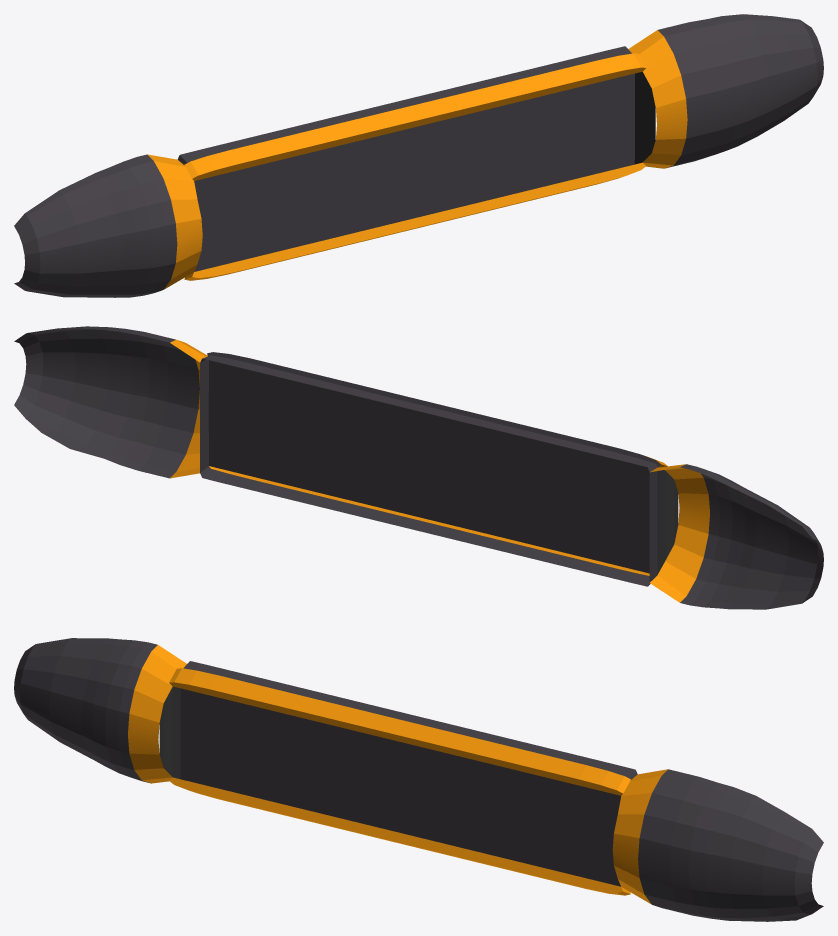
File: EMISOR3.fbx
3 views of the same model, one above another, from view 1: azimuth 30°, elevation 25°; view 2: azimuth 150°, elevation 25°; view 3: azimuth 330°, elevation 25° (orthographic).
Visible parts, largest first — view 1: Cylinder; view 2: Cylinder; view 3: Cylinder.
Part boxes in pixels (x1,y1,x2,y2): Cylinder: (14,14,823,297); Cylinder: (14,326,823,609); Cylinder: (14,638,823,921).
Size of the model in its own units: 1064 by 173 by 72.37.
